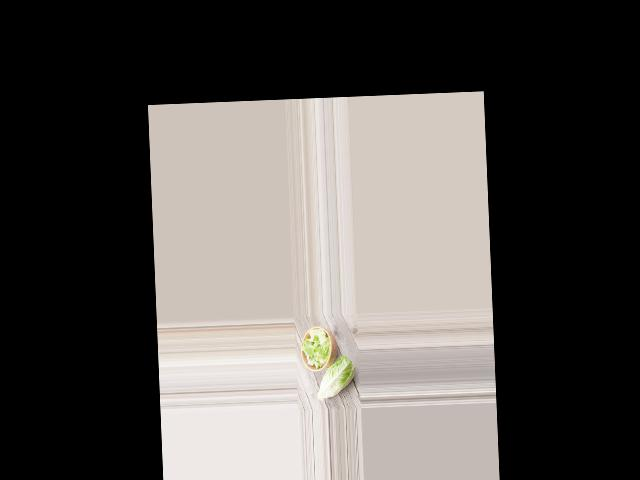lettuce: (315, 355, 356, 399)
